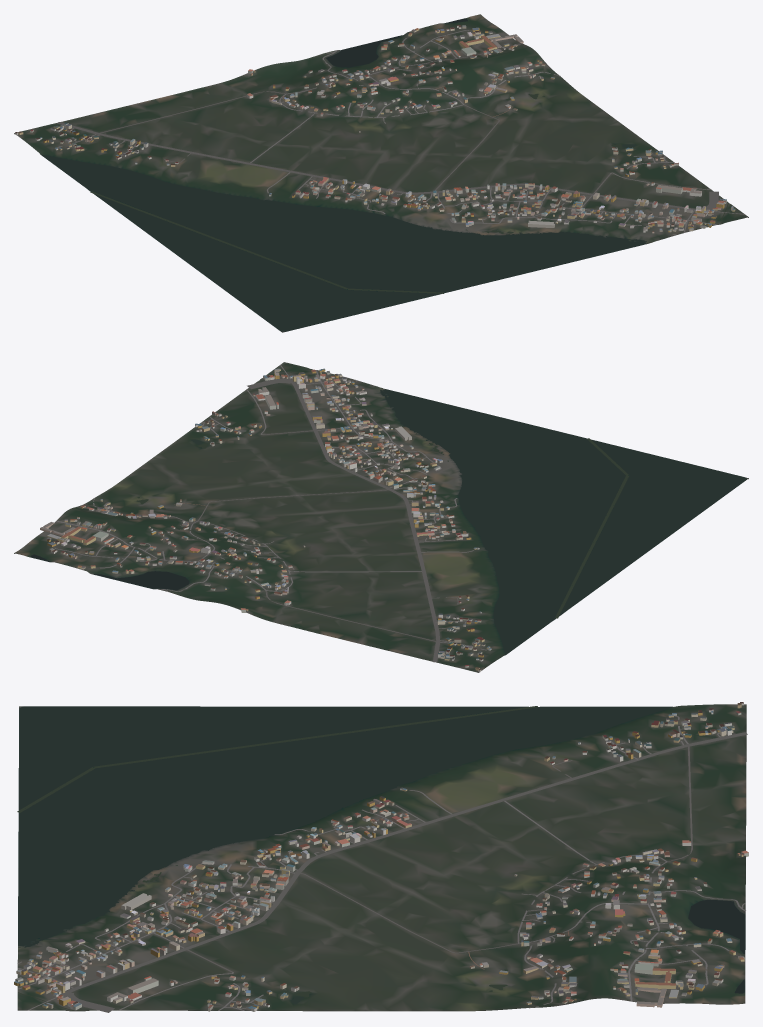
The picture shows the model from 3 angles, top to bottom: view 1: azimuth 30°, elevation 25°; view 2: azimuth 150°, elevation 25°; view 3: azimuth 270°, elevation 25°; orthographic projection. The views are drawn at different scales.
Parts seen in each view (by area): view 1: ground, water, buildings, roads; view 2: ground, water, buildings, roads; view 3: ground, water, buildings, roads.
Boxes of the visible parts, box(x1,y1,x2,y2) form: ground: box(14, 14, 748, 332); water: box(41, 18, 728, 331); buildings: box(15, 25, 735, 233); roads: box(57, 30, 744, 234); ground: box(14, 362, 748, 672); water: box(30, 369, 746, 654); buildings: box(40, 368, 491, 671); roads: box(54, 364, 488, 662); ground: box(17, 704, 746, 1011); water: box(17, 706, 744, 1010); buildings: box(14, 702, 748, 1011); roads: box(17, 716, 747, 1012).
Bounding box in the file's own units: 1420 × 41.1 × 1416.
